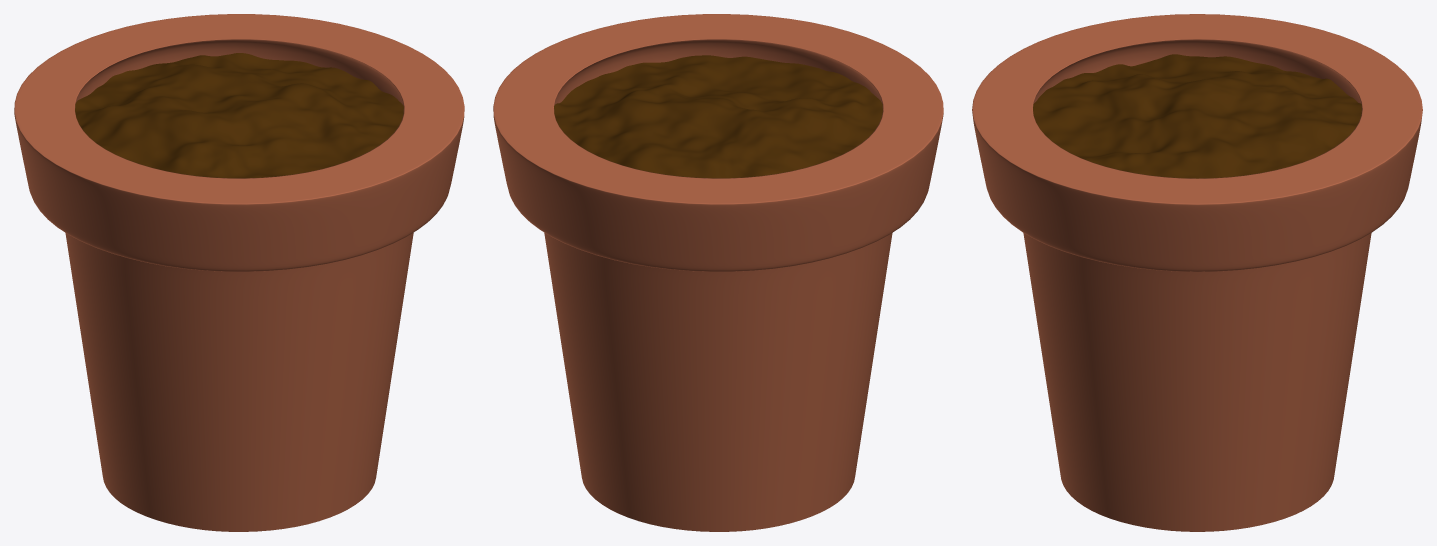
The model's file is plant_pot_empty 1.fbx.
The picture shows the model from 3 angles, left to right: view 1: azimuth 30°, elevation 25°; view 2: azimuth 150°, elevation 25°; view 3: azimuth 270°, elevation 25°; orthographic projection.
Parts seen in each view (by area): view 1: empty_pot; view 2: empty_pot; view 3: empty_pot.
Boxes of the visible parts, x1=… form: empty_pot: x1=14, y1=14, x2=464, y2=531; empty_pot: x1=493, y1=14, x2=943, y2=531; empty_pot: x1=972, y1=14, x2=1422, y2=531.
Size of the model in its own units: 3.28 by 2.95 by 3.28.
